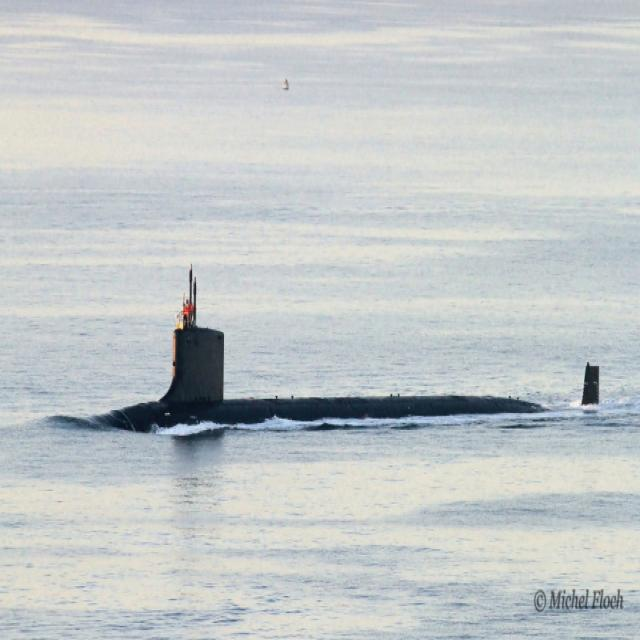submarine: (75, 258, 609, 407)
